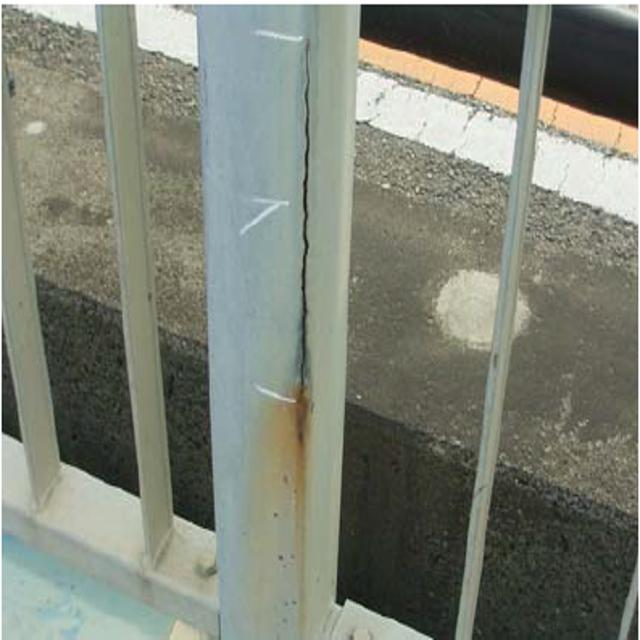crack: (281, 24, 330, 446)
